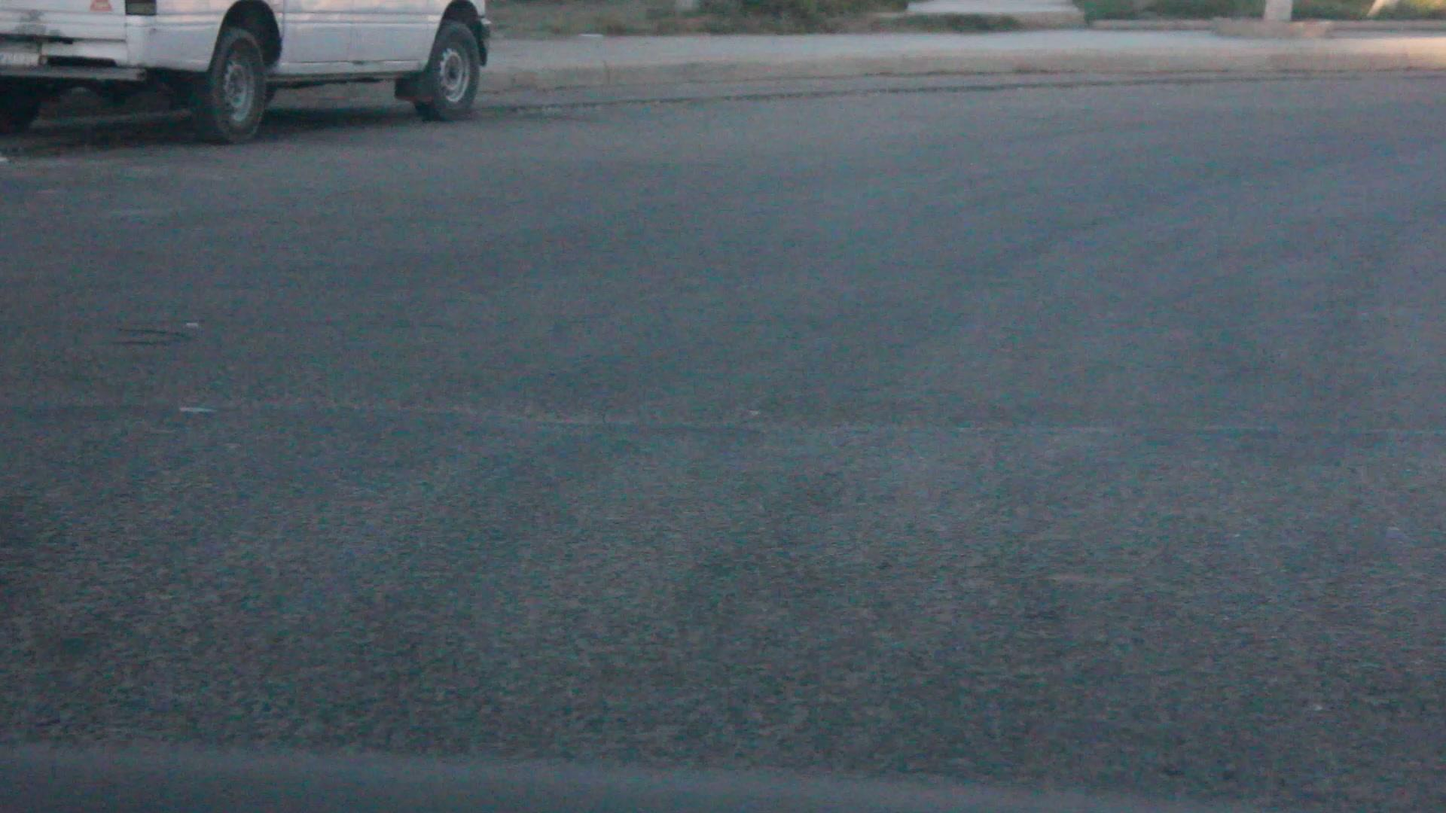Bump: (0, 400, 1445, 812)
